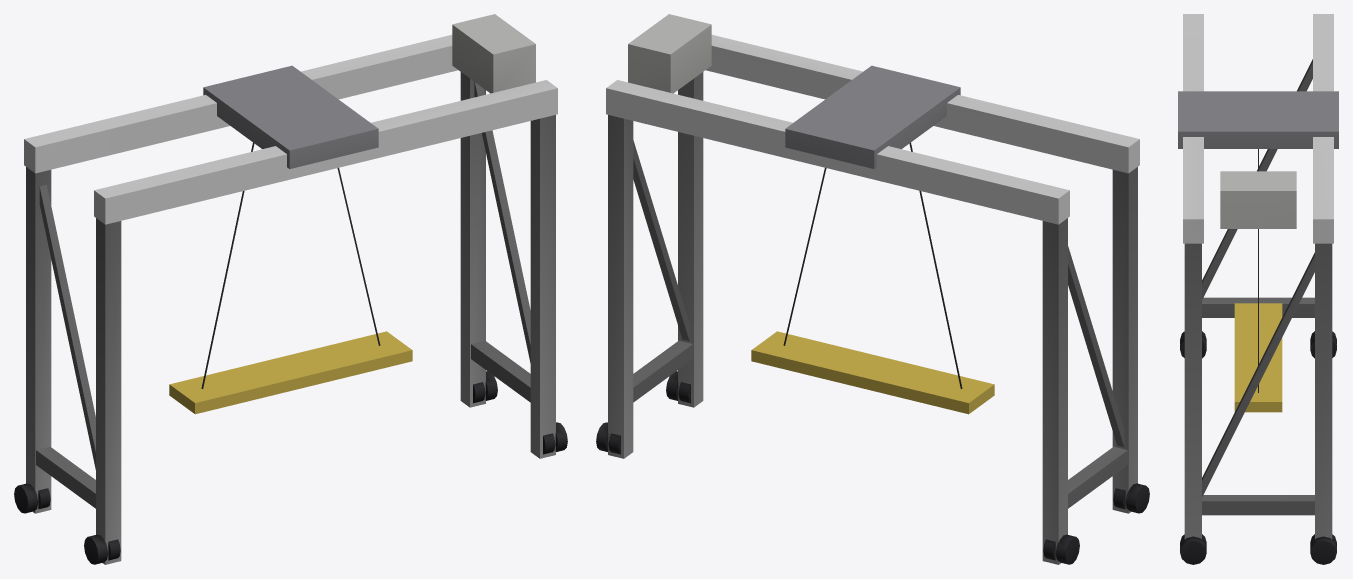
Rendered from rtg.glb.
3 views of the same model, side by side, from view 1: azimuth 30°, elevation 25°; view 2: azimuth 150°, elevation 25°; view 3: azimuth 270°, elevation 25° (orthographic). The views are drawn at different scales.
Visible parts, largest first — view 1: farbe, teil, lack; view 2: farbe, teil, lack; view 3: farbe, teil, lack.
Part boxes in pixels (left/top/right/bottom): farbe: left=24, top=34, right=557, bottom=564; teil: left=169, top=65, right=412, bottom=414; lack: left=14, top=14, right=567, bottom=564; farbe: left=606, top=34, right=1139, bottom=564; teil: left=751, top=65, right=994, bottom=414; lack: left=596, top=14, right=1149, bottom=564; farbe: left=1183, top=14, right=1333, bottom=539; teil: left=1178, top=91, right=1338, bottom=412; lack: left=1180, top=171, right=1336, bottom=564.
Size of the model in its own units: 26.35 by 21.3 by 8.4.
